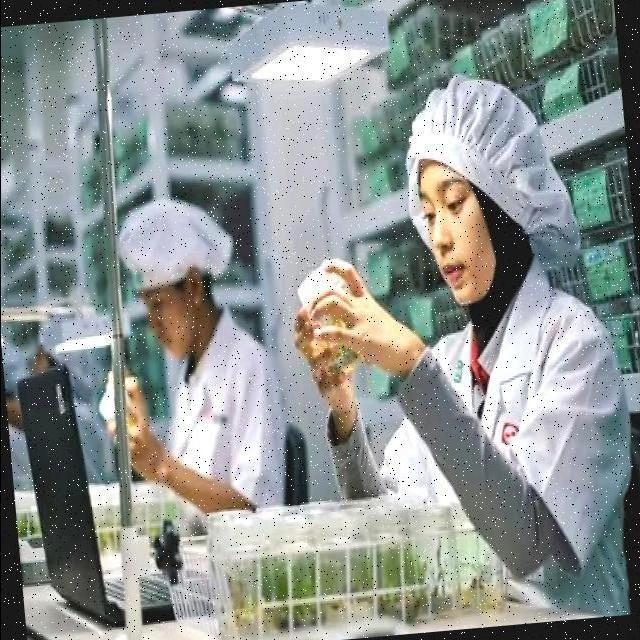no_apron: (290, 278, 426, 374)
